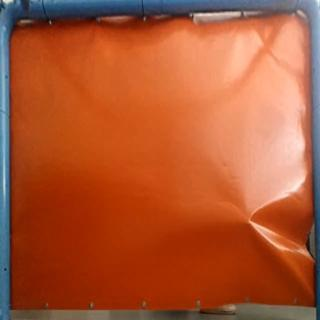Hit-hRxx: (240, 215, 256, 229)
